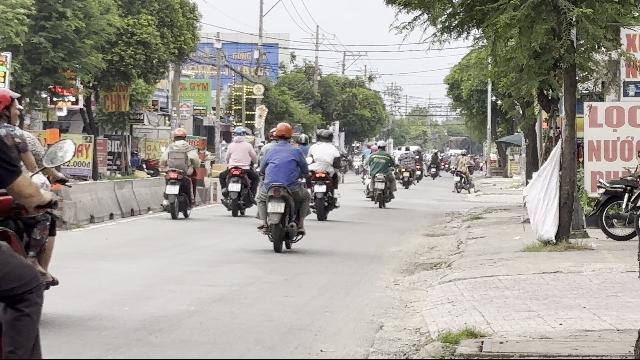helmet: (274, 122, 292, 142), (172, 127, 186, 141)
licenseplate: (268, 202, 284, 212), (166, 186, 178, 194)
motorcyclist: (253, 121, 310, 252), (160, 126, 200, 218)
